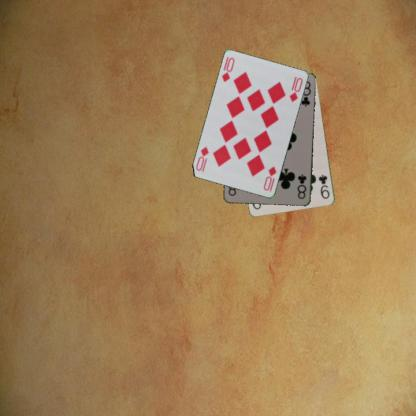10d: (261, 164, 278, 193), (219, 54, 236, 83)
8c: (295, 172, 308, 200)
9c: (316, 172, 331, 201)
